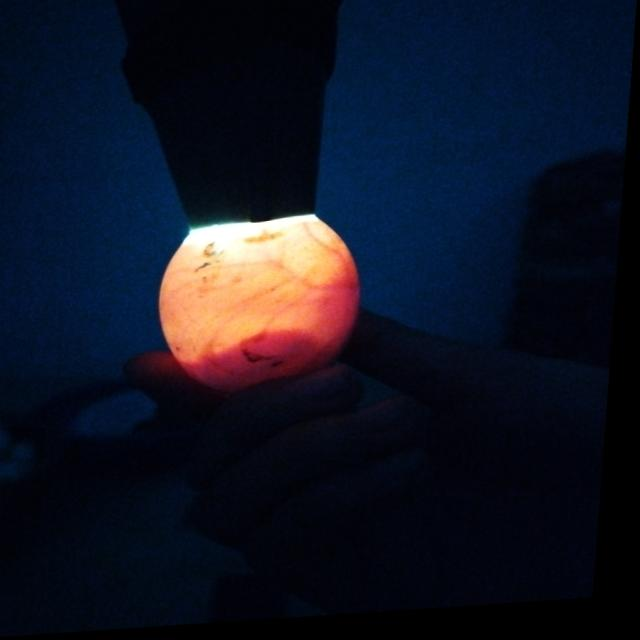Embriao: (190, 275, 369, 397)
